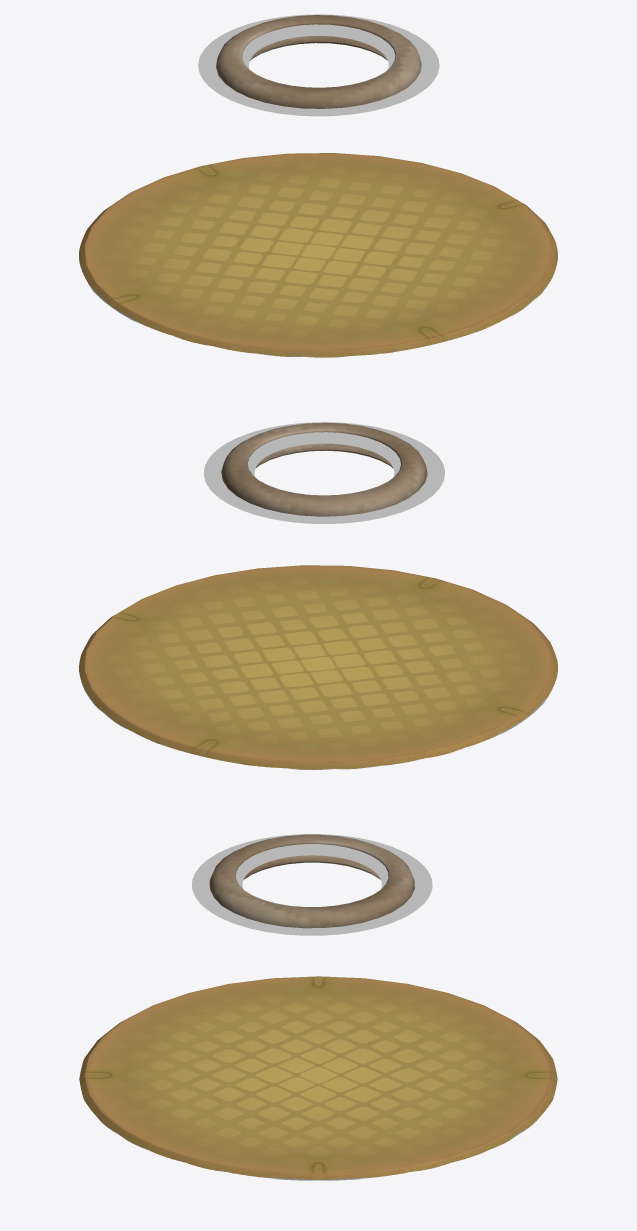
Rendered from pref_TPC_v2_NeutralScoreArea03_yellow_interfere_lv3.fbx.
The picture shows the model from 3 angles, top to bottom: view 1: azimuth 30°, elevation 25°; view 2: azimuth 150°, elevation 25°; view 3: azimuth 270°, elevation 25°; orthographic projection.
Visible parts, largest first — view 1: sm_prop_platform06a_lv3, sm_prop_platform06b_lv3, glow, glow (1); view 2: sm_prop_platform06a_lv3, sm_prop_platform06b_lv3, glow, glow (1); view 3: sm_prop_platform06a_lv3, sm_prop_platform06b_lv3, glow, glow (1).
Part boxes in pixels (x1=…): sm_prop_platform06a_lv3: x1=79, y1=153, x2=557, y2=357; sm_prop_platform06b_lv3: x1=216, y1=15, x2=421, y2=108; glow: x1=198, y1=14, x2=439, y2=116; glow (1): x1=198, y1=14, x2=439, y2=115; sm_prop_platform06a_lv3: x1=79, y1=565, x2=557, y2=769; sm_prop_platform06b_lv3: x1=221, y1=422, x2=427, y2=516; glow: x1=203, y1=422, x2=444, y2=523; glow (1): x1=204, y1=422, x2=444, y2=523; sm_prop_platform06a_lv3: x1=79, y1=976, x2=557, y2=1180; sm_prop_platform06b_lv3: x1=209, y1=834, x2=414, y2=928; glow: x1=192, y1=834, x2=432, y2=935; glow (1): x1=192, y1=834, x2=432, y2=935.
Size of the model in its own units: 7.46 by 2.88 by 7.46.
